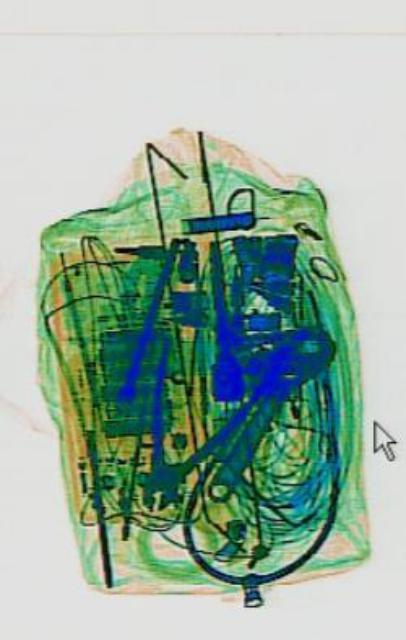Pliers: (106, 332, 248, 546)
Wrench: (191, 303, 336, 521)
